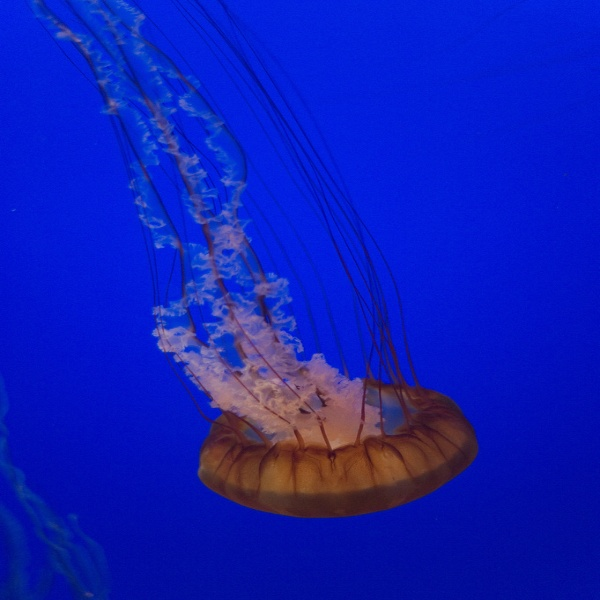Jellyfish: (38, 16, 485, 533)
